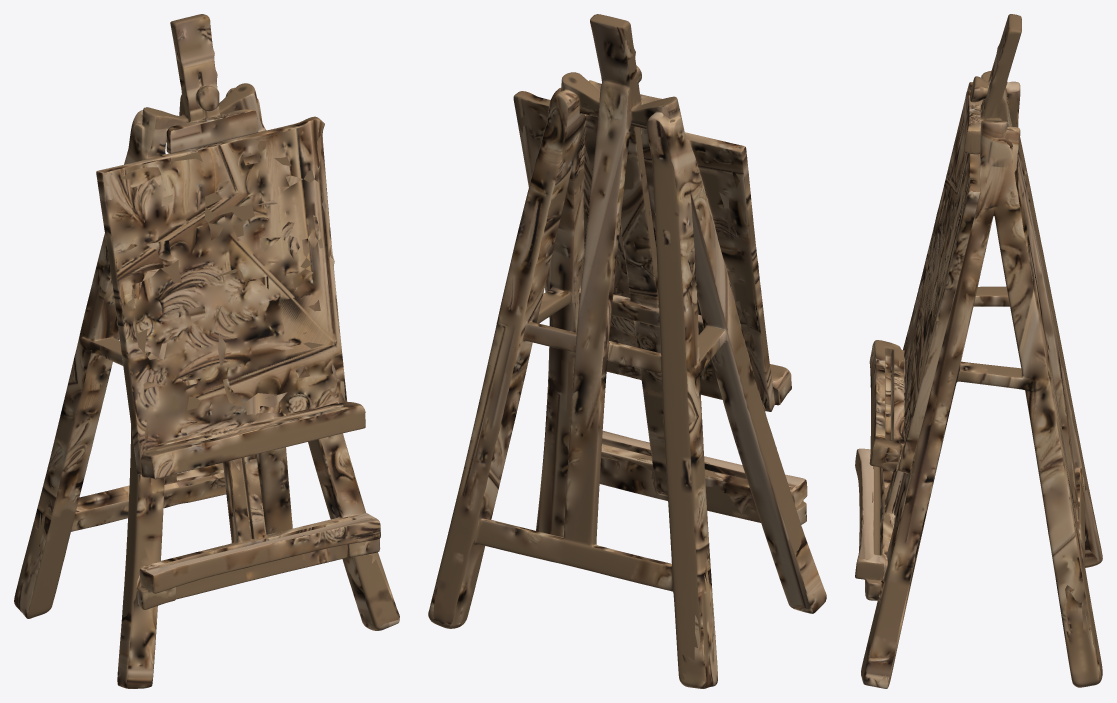
The model's file is easel.fbx.
The picture shows the model from 3 angles, left to right: view 1: azimuth 30°, elevation 25°; view 2: azimuth 150°, elevation 25°; view 3: azimuth 270°, elevation 25°; orthographic projection. The views are drawn at different scales.
Visible parts, largest first — view 1: easel; view 2: easel; view 3: easel.
Part boxes in pixels (x1,y1,x2,y2): easel: (14,14,399,688); easel: (428,14,826,688); easel: (855,14,1102,688).
Size of the model in its own units: 420 by 866 by 322.
